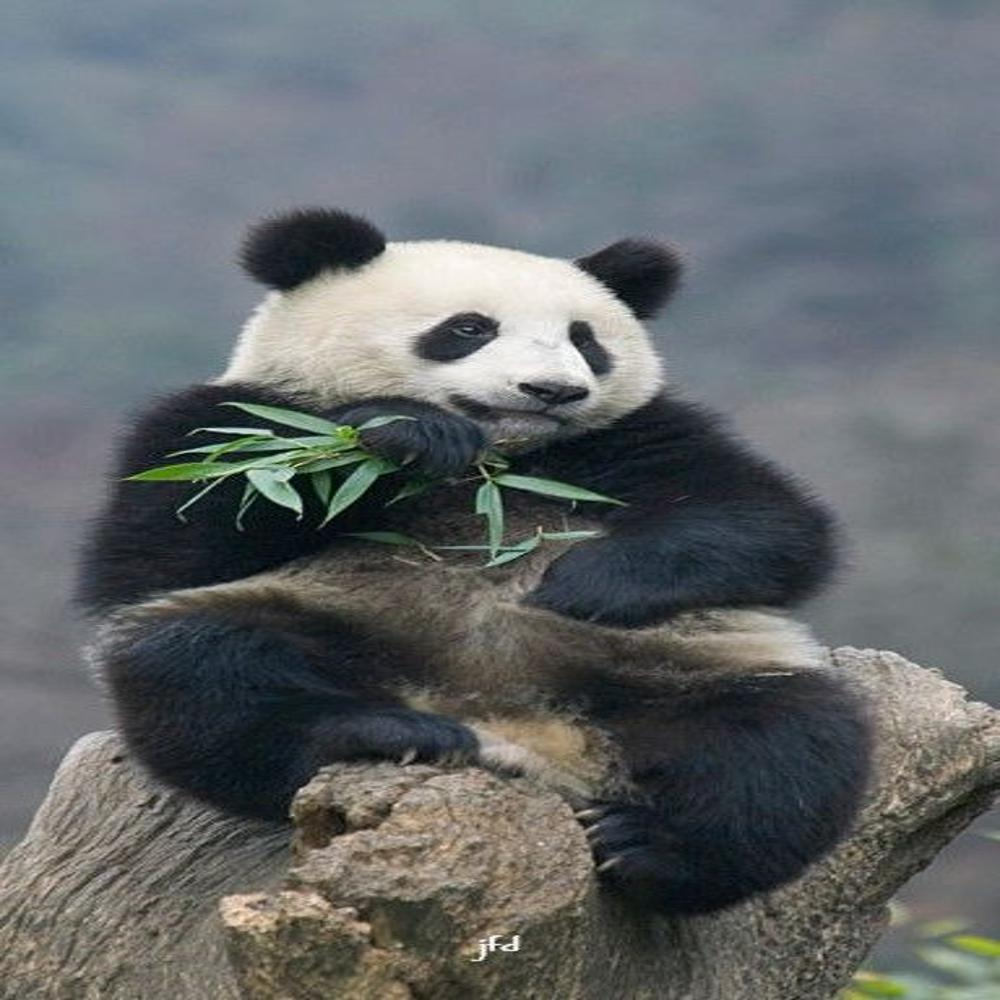panda: (104, 200, 872, 933)
